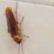cockroach: (5, 6, 22, 44)
